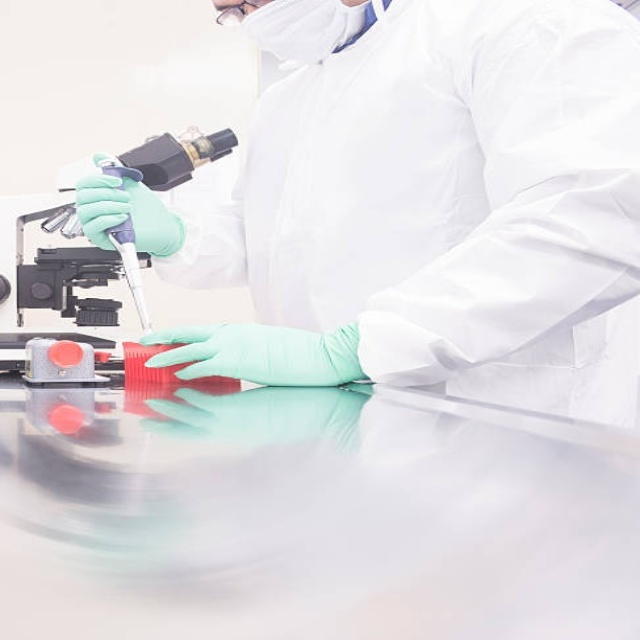Gafas: (214, 0, 264, 26)
Guantes: (138, 317, 373, 392), (71, 148, 181, 257)
Mascara: (241, 0, 371, 68)
Sin_mascara: (212, 0, 246, 13)
